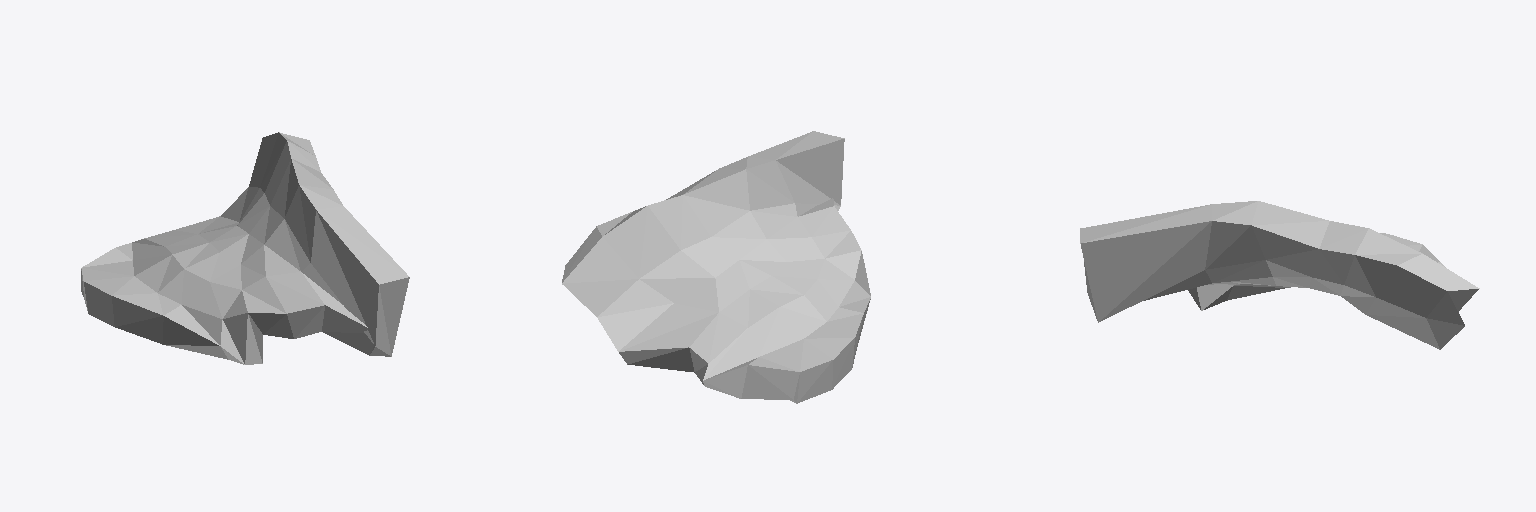
The model's file is TearDuct_L.obj.
3 views of the same model, side by side, from view 1: azimuth 30°, elevation 25°; view 2: azimuth 150°, elevation 25°; view 3: azimuth 270°, elevation 25° (orthographic).
Visible parts, largest first — view 1: TearDuct_L; view 2: TearDuct_L; view 3: TearDuct_L.
Boxes of the visible parts, <box> form: TearDuct_L: <box>81,132,409,364</box>; TearDuct_L: <box>562,131,870,403</box>; TearDuct_L: <box>1080,201,1479,349</box>.
Size of the model in its own units: 0.0038 by 0.0022 by 0.0056.